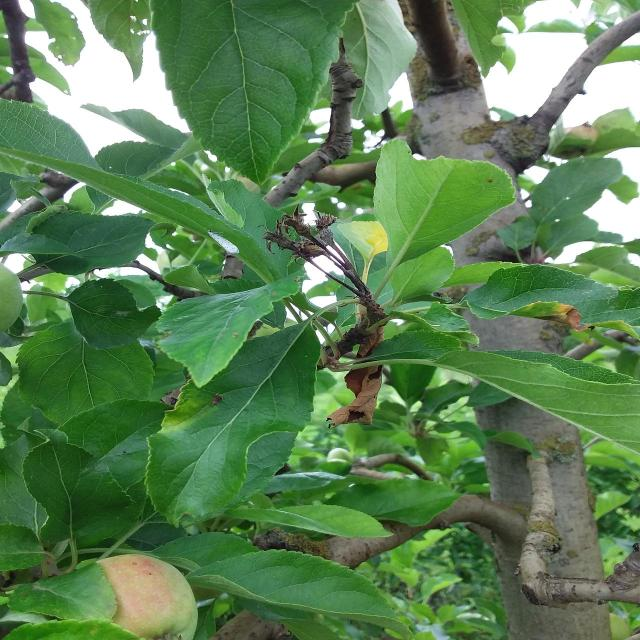-FireBlight-: (326, 313, 382, 433)
